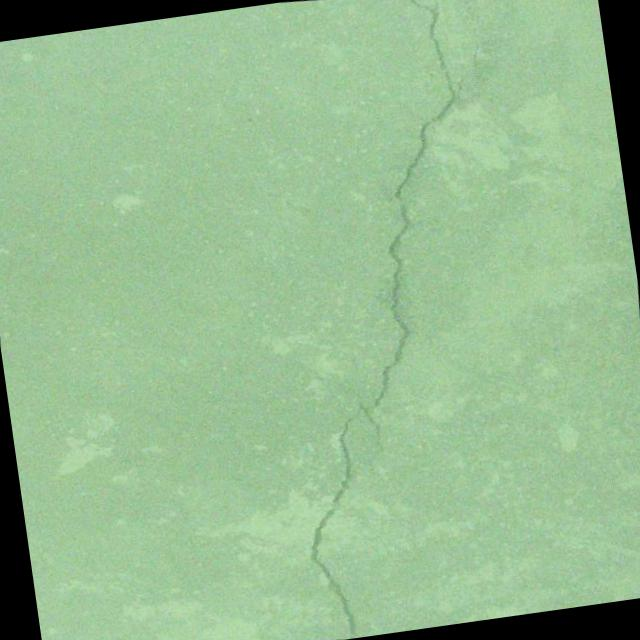crack: (227, 0, 546, 640), (468, 44, 484, 72), (462, 0, 473, 13)
